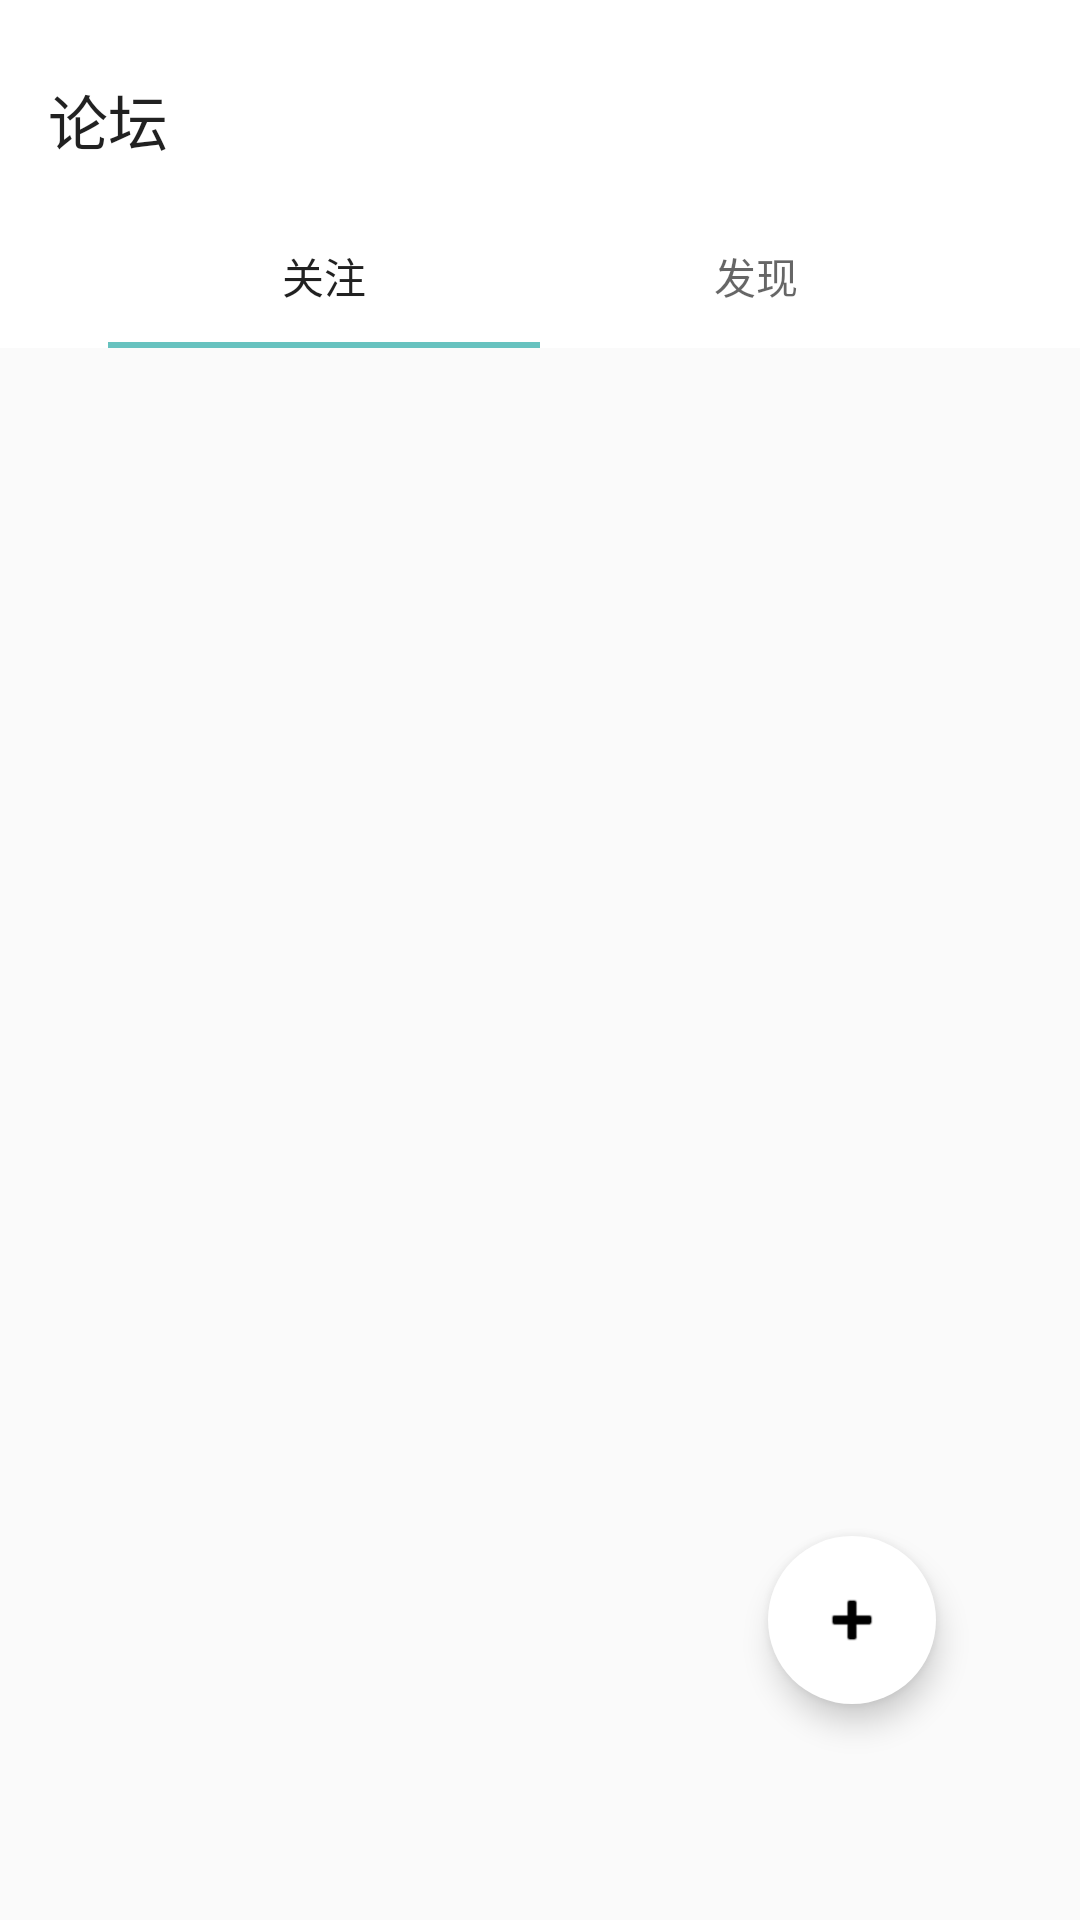

Icon bounding boxes for this 1080*1920 phone screenshot, format (x1, y1, x2, y2):
add: (771, 1600, 936, 1704)
